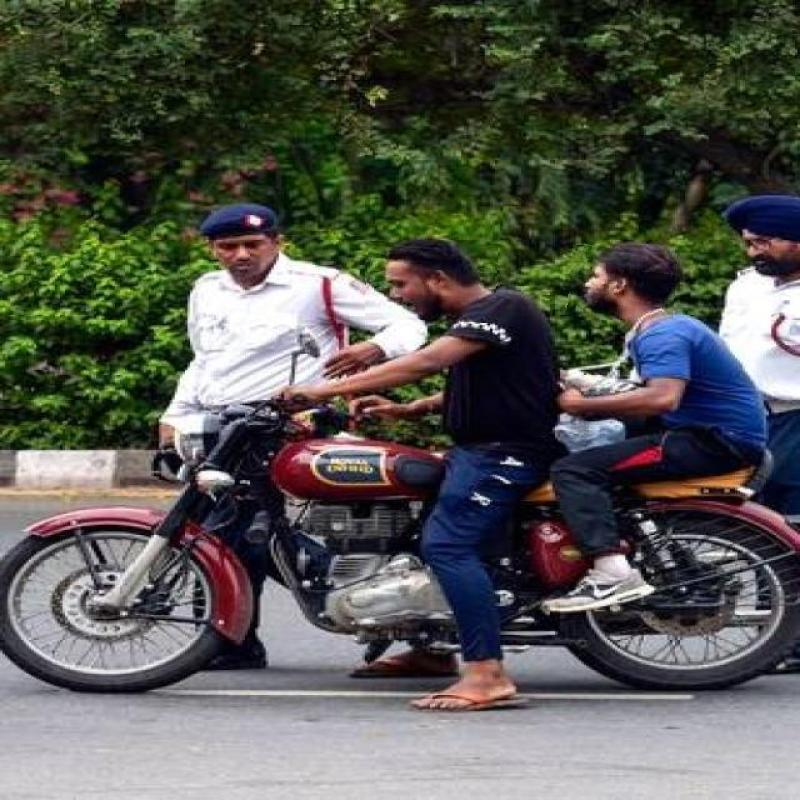nohelmet: (366, 242, 498, 322), (568, 247, 677, 321)
